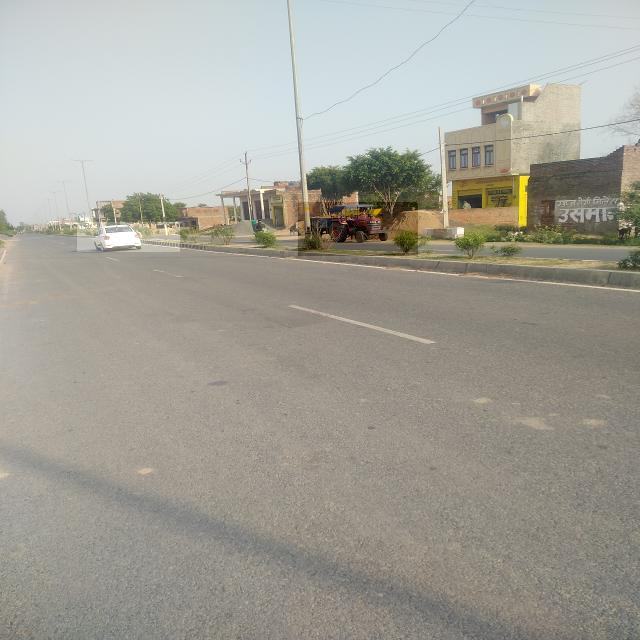Car: (77, 222, 180, 252)
Tractot: (298, 202, 418, 256)
